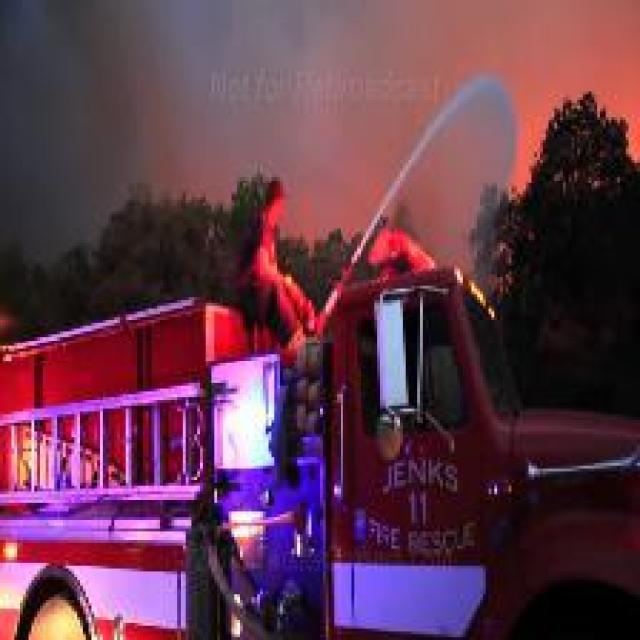other: (0, 526, 133, 630), (242, 163, 318, 342), (372, 192, 429, 294)
